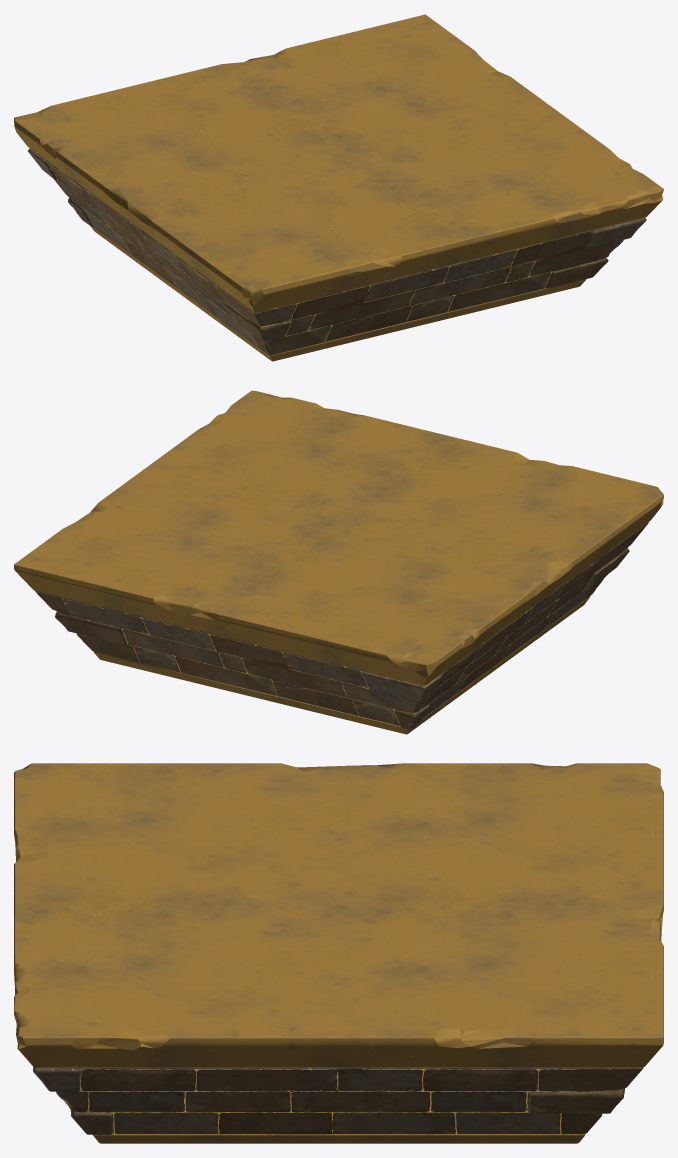
3 views of the same model, one above another, from view 1: azimuth 30°, elevation 25°; view 2: azimuth 150°, elevation 25°; view 3: azimuth 270°, elevation 25° (orthographic). The views are drawn at different scales.
Visible parts, largest first — view 1: SM_DK_20m_TowerTop_01_LOD0; view 2: SM_DK_20m_TowerTop_01_LOD0; view 3: SM_DK_20m_TowerTop_01_LOD0.
Part boxes in pixels (x1=…): SM_DK_20m_TowerTop_01_LOD0: x1=14, y1=14, x2=663, y2=361; SM_DK_20m_TowerTop_01_LOD0: x1=14, y1=390, x2=663, y2=734; SM_DK_20m_TowerTop_01_LOD0: x1=14, y1=763, x2=663, y2=1143.
Size of the model in its own units: 7.6 by 1.85 by 7.6.
2 materials, 2 textured.
